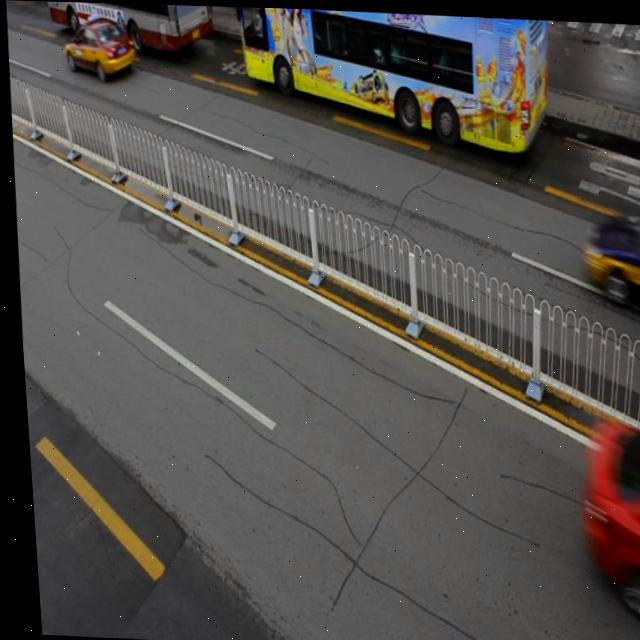car: (576, 412, 640, 629), (579, 200, 640, 307), (63, 12, 136, 80)
van: (234, 5, 553, 151), (43, 1, 213, 53)
